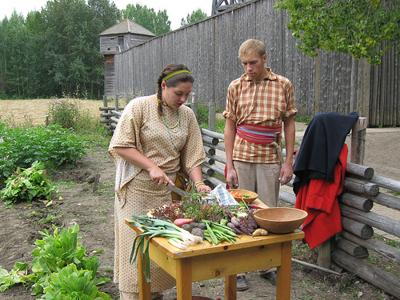person: (109, 62, 213, 300)
